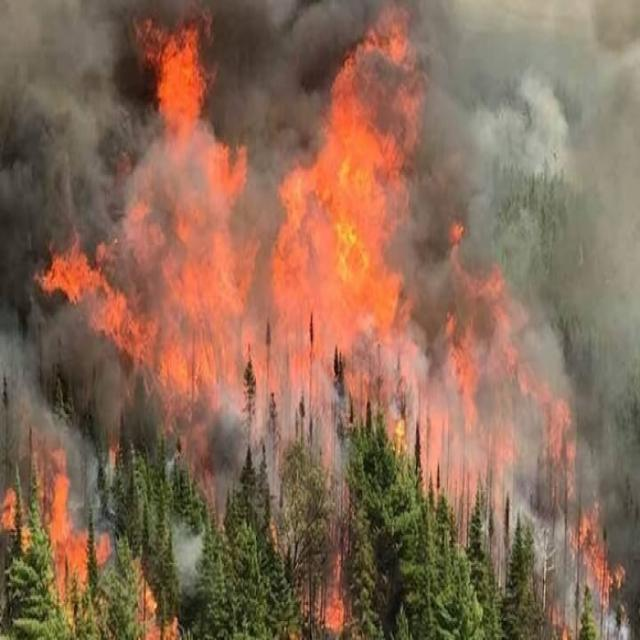Fire: (38, 9, 618, 640)
